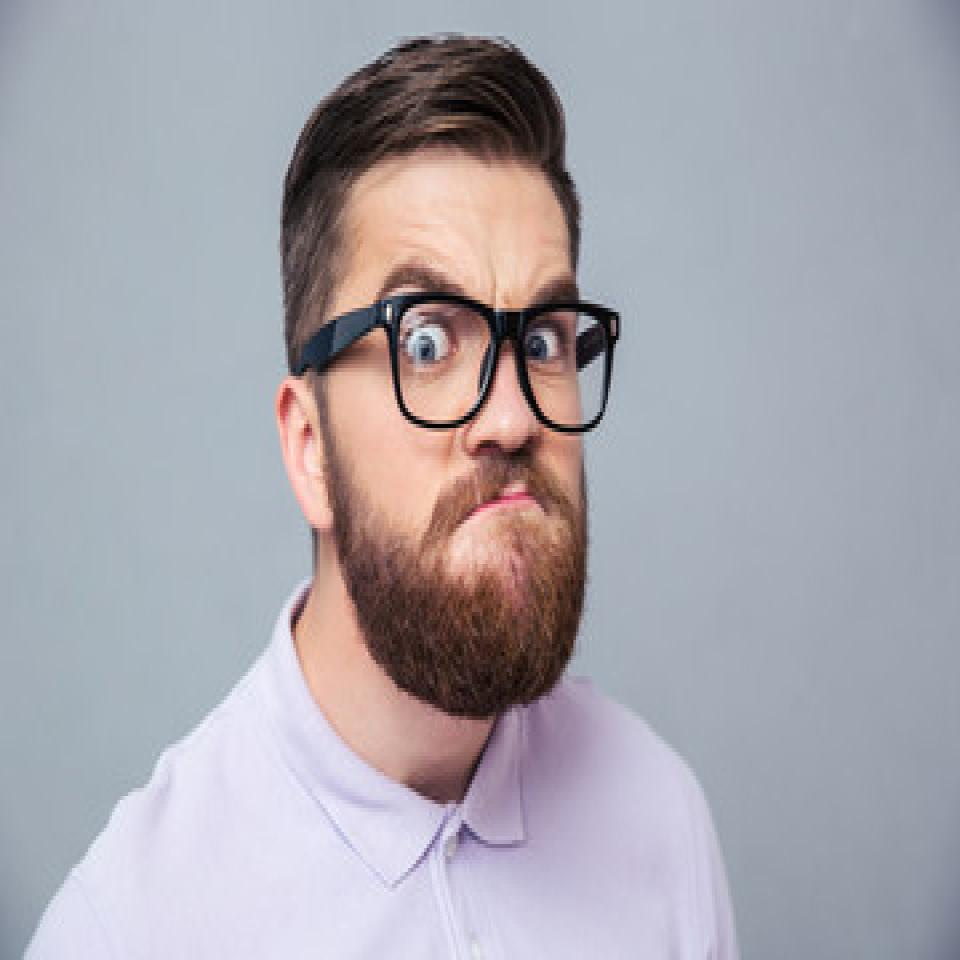Anger: (318, 176, 606, 696)
